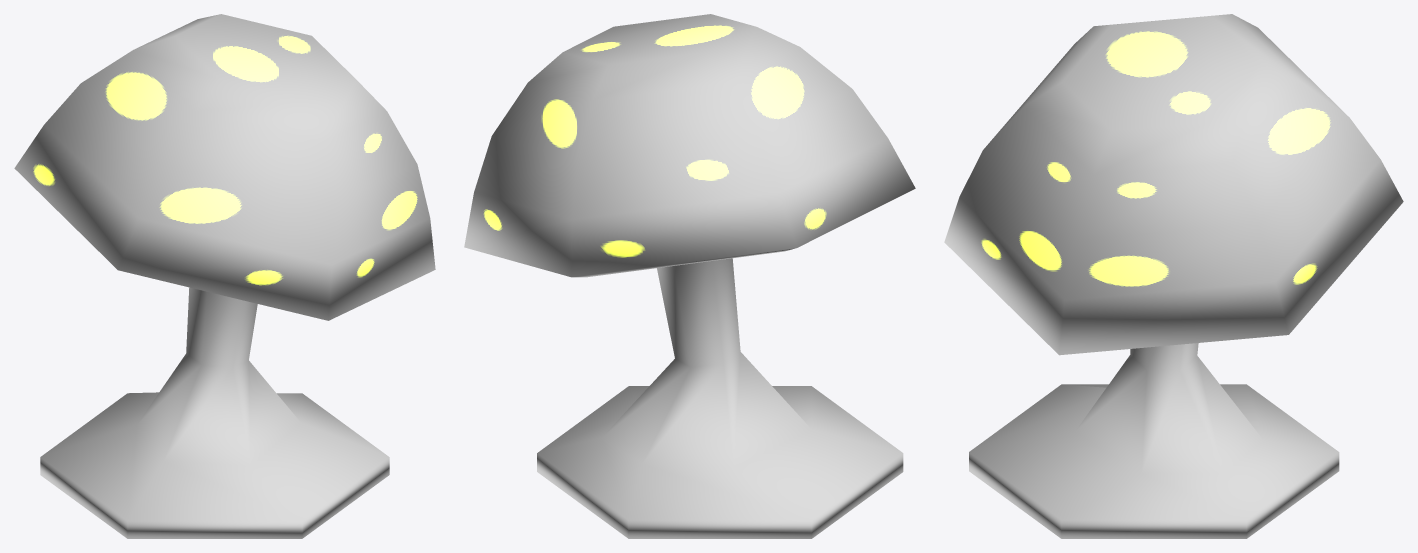
The model's file is HH_MushroomSmall_AT.fbx.
3 views of the same model, side by side, from view 1: azimuth 30°, elevation 25°; view 2: azimuth 150°, elevation 25°; view 3: azimuth 270°, elevation 25° (orthographic). The views are drawn at different scales.
Visible parts, largest first — view 1: mushSmall; view 2: mushSmall; view 3: mushSmall.
Part boxes in pixels (x1,y1,x2,y2): mushSmall: [14, 14, 435, 538]; mushSmall: [464, 14, 915, 538]; mushSmall: [944, 14, 1403, 538].
Size of the model in its own units: 175 by 219 by 204.
